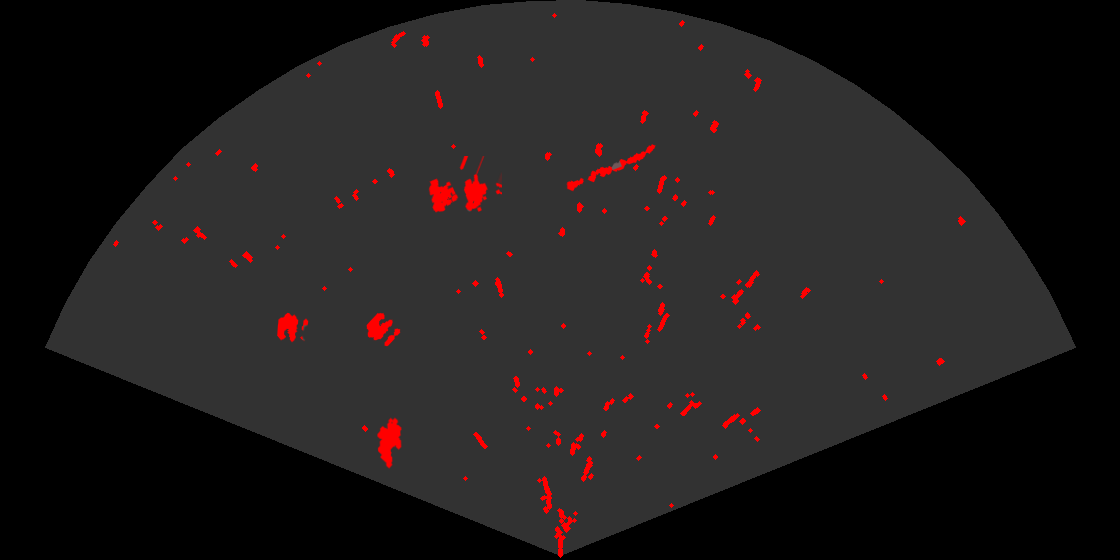AUV: (376, 416, 403, 470)
ball: (365, 311, 402, 348), (276, 311, 310, 344)
cage: (427, 156, 502, 214)
chain: (565, 143, 657, 193)
